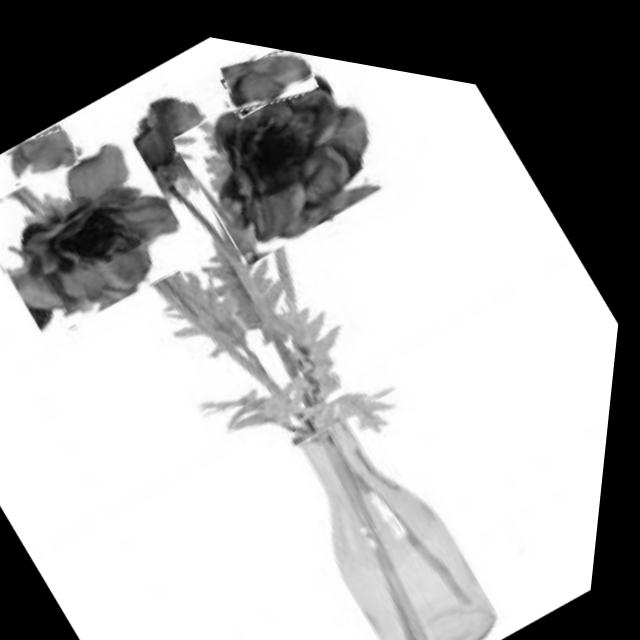Flower: (165, 26, 412, 276), (0, 103, 218, 360), (213, 31, 325, 126), (0, 110, 91, 202)
